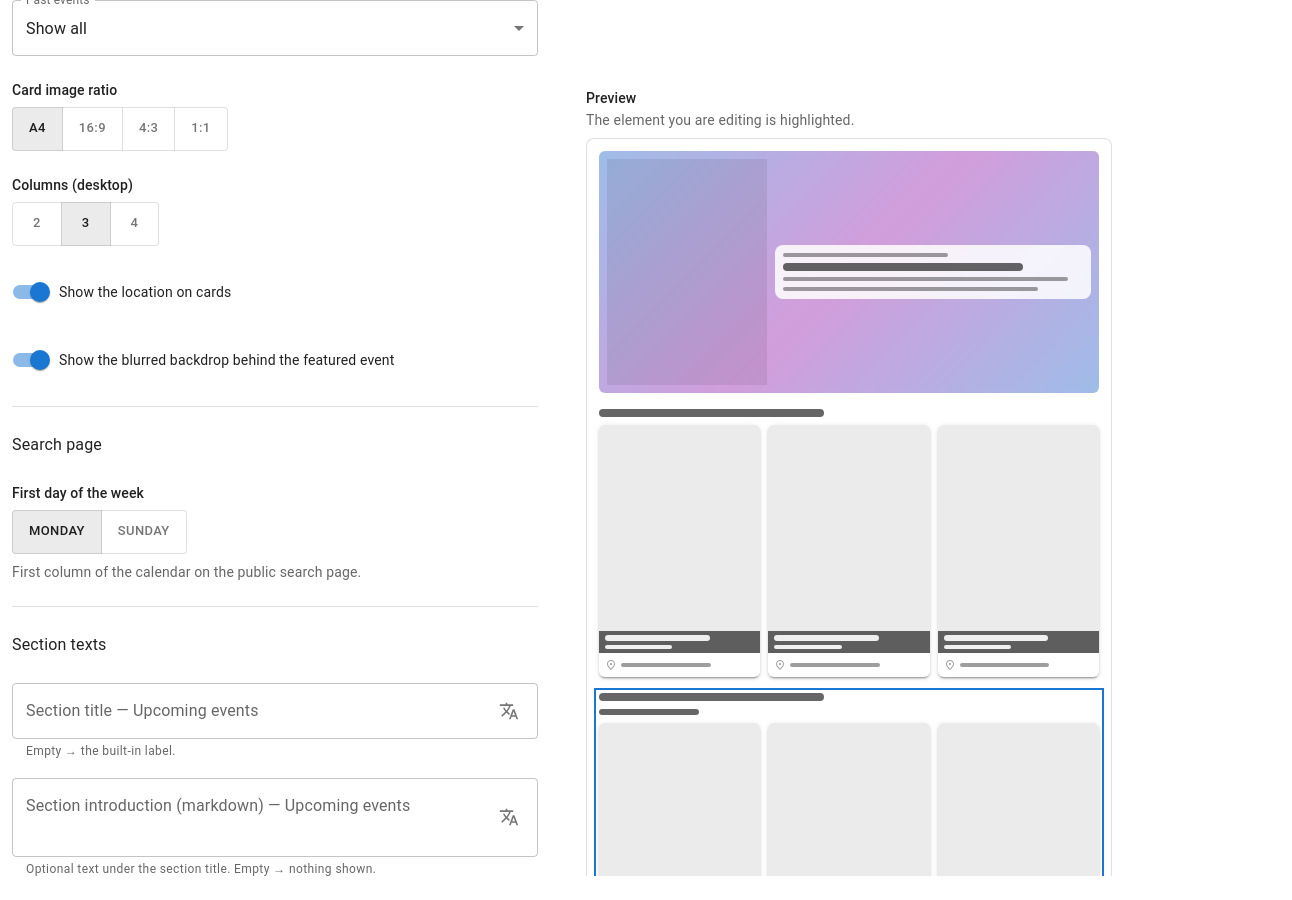
Scenario: AgendaDesignEditor (Agenda design tab) › auto-saves a settled change as a deviation, over the freshest draft events
Type " Bientôt " into the field labelled "Section title — Upcoming events" at (249, 711), box left=12, top=683, right=486, bottom=739
(page scrolled)
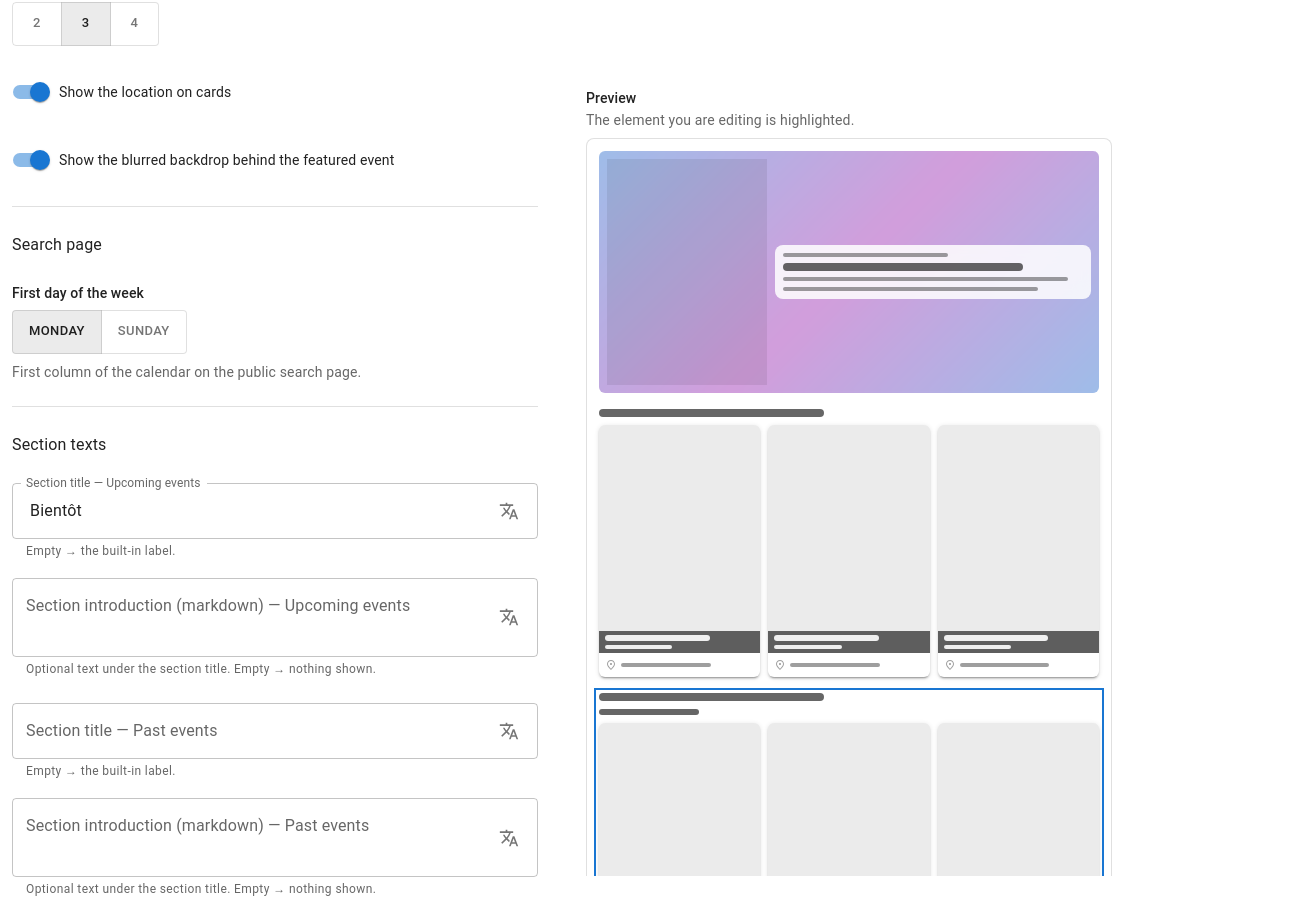
Type "Nos *souvenirs*." into the text box labelled "Section introduction (markdown) — Past events" at (256, 838), box left=26, top=815, right=486, bottom=861
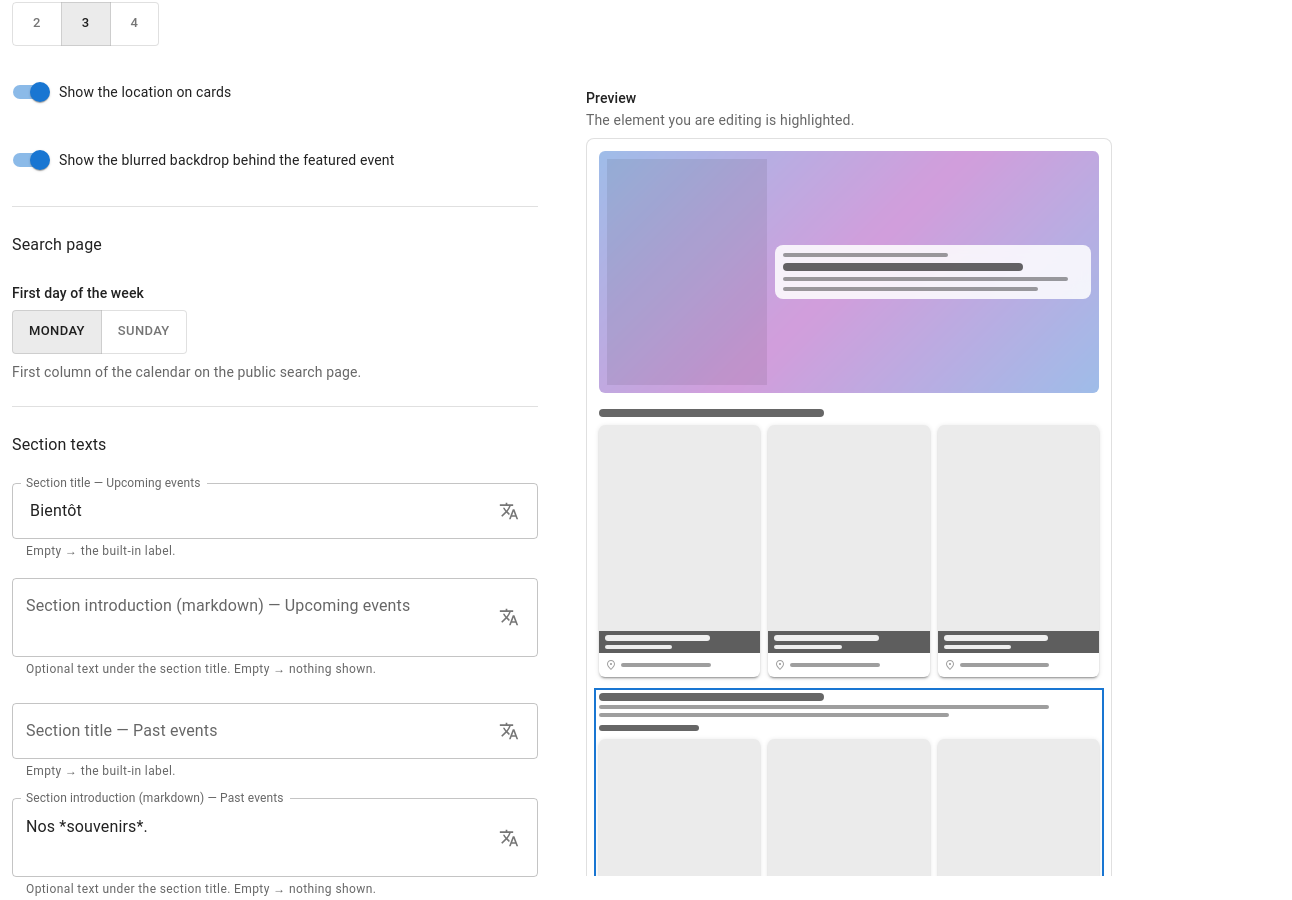
Click the button "2" at (37, 24), box left=12, top=2, right=62, bottom=46
Wait 900 ms
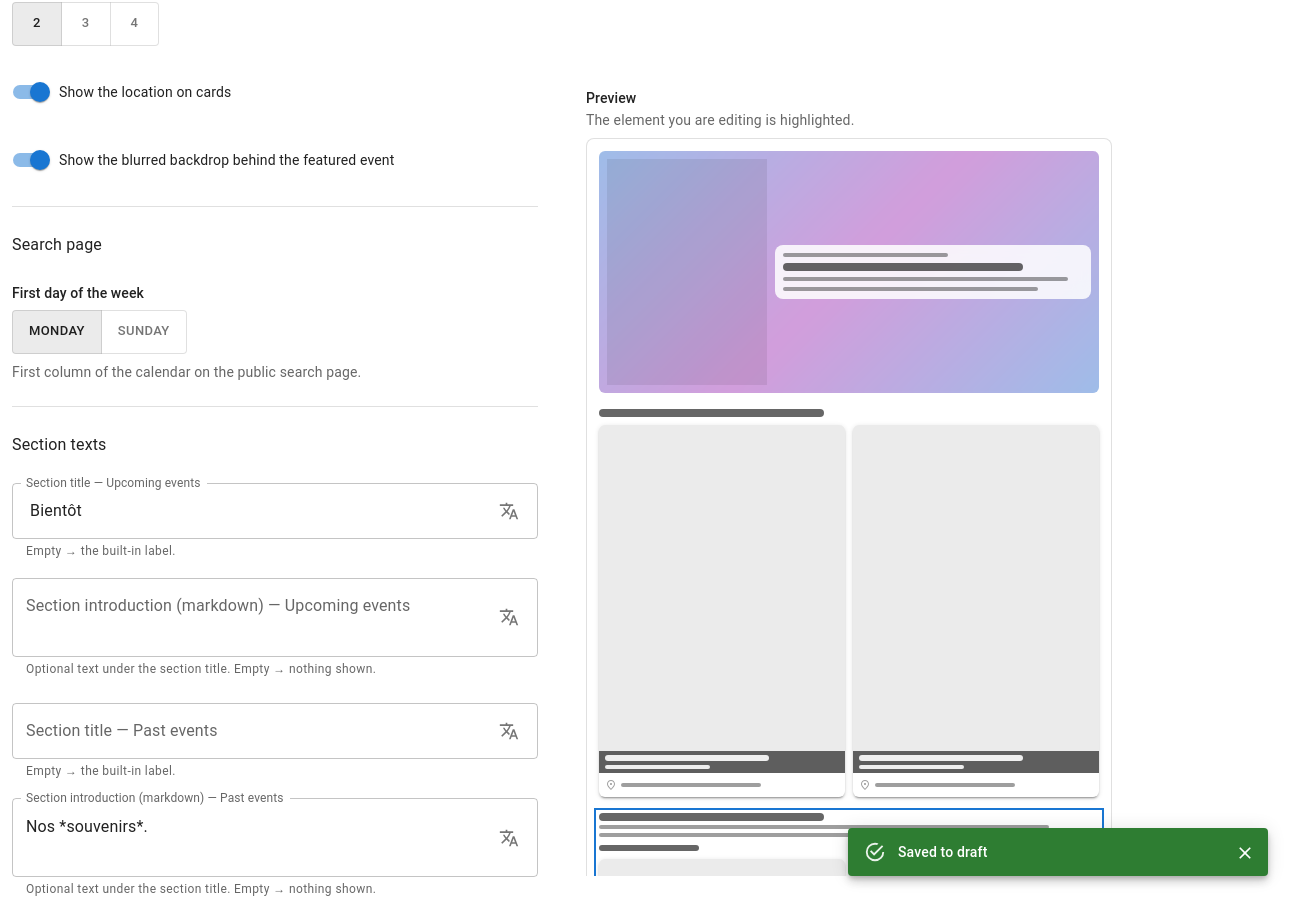
Check: the text "Saved to draft" is shown, box left=898, top=844, right=988, bottom=860
